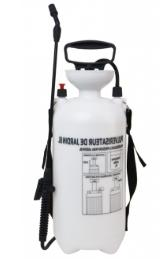PULVERISATEUR: (0, 2, 153, 259)
